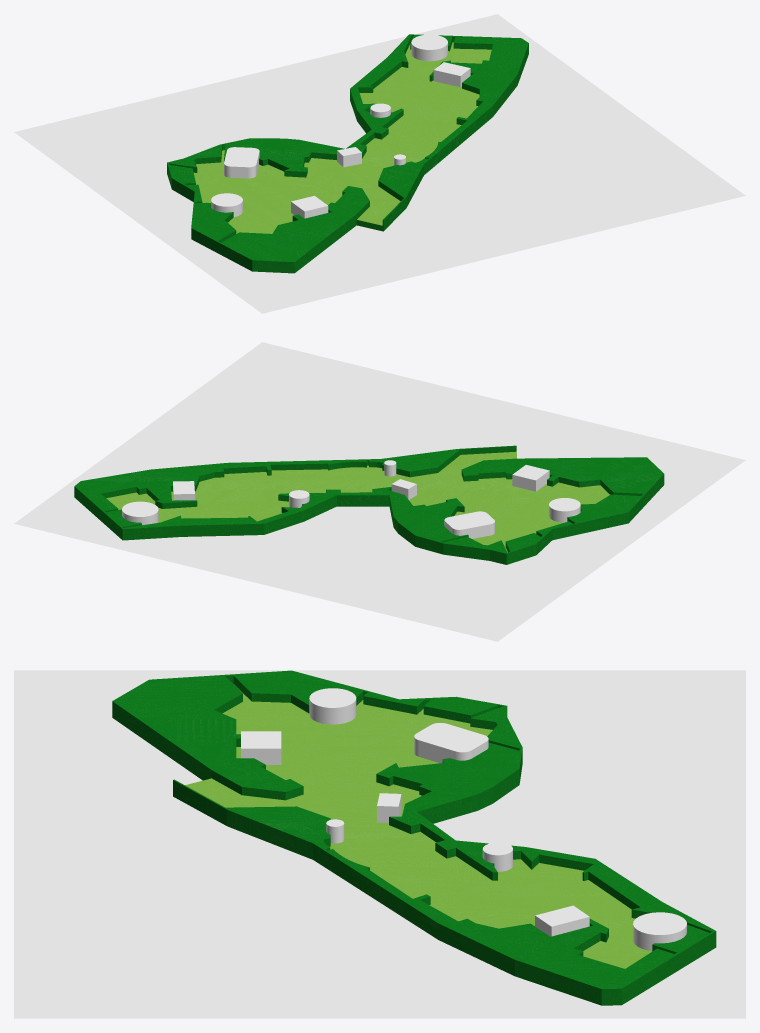
The model's file is FieldDay-2012-3D.dae.
3 views of the same model, one above another, from view 1: azimuth 30°, elevation 25°; view 2: azimuth 150°, elevation 25°; view 3: azimuth 270°, elevation 25° (orthographic). The views are drawn at different scales.
Visible parts, largest first — view 1: SketchUp (×6), group_0 (×2); view 2: SketchUp (×5), group_0 (×2); view 3: SketchUp (×8), group_0 (×2).
Part boxes in pixels (x1,y1,x2,y2): SketchUp (×6): [14, 14, 745, 313]; group_0 (×2): [167, 34, 528, 273]; SketchUp (×5): [14, 342, 745, 641]; group_0 (×2): [74, 445, 664, 564]; SketchUp (×8): [14, 670, 745, 1018]; group_0 (×2): [112, 670, 716, 1005].
Size of the model in its own units: 35.43 by 31.5 by 1.18.
Materials: 5 (4 with a texture image).
